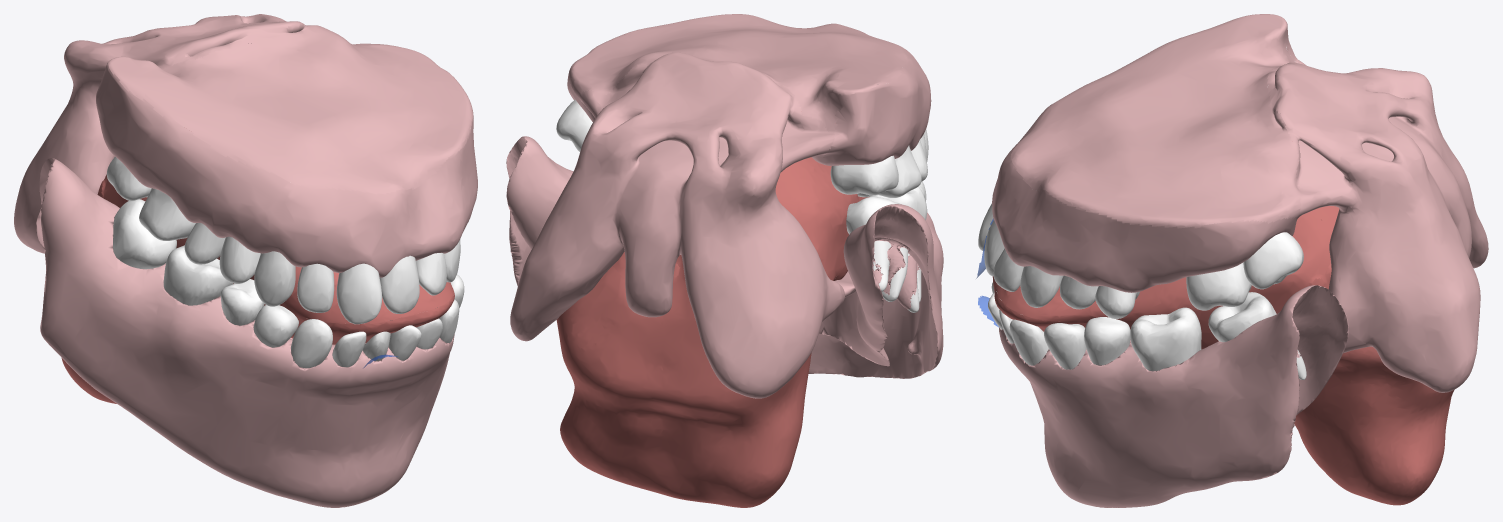
Rendered from mouth.glb.
3 renders of one model, left to right at view 1: azimuth 30°, elevation 25°; view 2: azimuth 150°, elevation 25°; view 3: azimuth 270°, elevation 25°, orthographic.
Visible parts, largest first — view 1: VH_M_gingiva_of_lower_jaw, VH_M_hard_palate, VH_M_ginviva_of_upper_jaw, VH_M_set_of_upper_jaw_teeth, VH_M_mucosa_of_soft_palate, VH_M_set_of_lower_jaw_teeth, VH_M_dorsal_tongue, VH_M_ventral_tongue; view 2: VH_M_mucosa_of_soft_palate, VH_M_posterior_part_of_tongue, VH_M_gingiva_of_lower_jaw, VH_M_hard_palate, VH_M_ginviva_of_upper_jaw, VH_M_dorsal_tongue, VH_M_set_of_upper_jaw_teeth, VH_M_set_of_lower_jaw_teeth; view 3: VH_M_mucosa_of_soft_palate, VH_M_hard_palate, VH_M_gingiva_of_lower_jaw, VH_M_ginviva_of_upper_jaw, VH_M_posterior_part_of_tongue, VH_M_set_of_lower_jaw_teeth, VH_M_set_of_upper_jaw_teeth, VH_M_dorsal_tongue, VH_M_ventral_tongue.
Boxes of the visible parts, box(x1,y1,x2,y2) form: VH_M_gingiva_of_lower_jaw: box(36, 158, 454, 507); VH_M_hard_palate: box(107, 22, 473, 194); VH_M_ginviva_of_upper_jaw: box(96, 63, 477, 277); VH_M_set_of_upper_jaw_teeth: box(106, 156, 460, 324); VH_M_mucosa_of_soft_palate: box(14, 14, 314, 253); VH_M_set_of_lower_jaw_teeth: box(113, 199, 464, 368); VH_M_dorsal_tongue: box(101, 174, 453, 323); VH_M_ventral_tongue: box(264, 292, 454, 344); VH_M_mucosa_of_soft_palate: box(510, 52, 844, 398); VH_M_posterior_part_of_tongue: box(556, 266, 811, 507); VH_M_gingiva_of_lower_jaw: box(506, 136, 943, 378); VH_M_hard_palate: box(568, 14, 907, 137); VH_M_ginviva_of_upper_jaw: box(567, 47, 931, 165); VH_M_dorsal_tongue: box(613, 157, 869, 300); VH_M_set_of_upper_jaw_teeth: box(556, 99, 928, 197); VH_M_set_of_lower_jaw_teeth: box(846, 181, 927, 312); VH_M_mucosa_of_soft_palate: box(1267, 62, 1488, 392); VH_M_hard_palate: box(1010, 14, 1303, 228); VH_M_gingiva_of_lower_jaw: box(999, 285, 1349, 507); VH_M_ginviva_of_upper_jaw: box(992, 31, 1302, 292); VH_M_posterior_part_of_tongue: box(1294, 346, 1454, 505); VH_M_set_of_lower_jaw_teeth: box(988, 282, 1306, 379); VH_M_set_of_upper_jaw_teeth: box(978, 203, 1303, 318); VH_M_dorsal_tongue: box(995, 206, 1339, 332); VH_M_ventral_tongue: box(992, 276, 1218, 349).
Bounding box in the file's own units: 0.0746 × 0.0679 × 0.0791.
